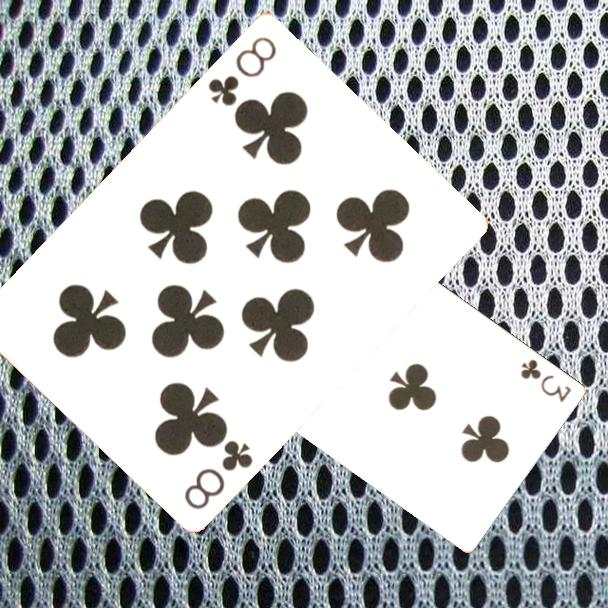c03: (517, 355, 575, 406)
c08: (204, 32, 280, 109), (180, 436, 256, 512)
